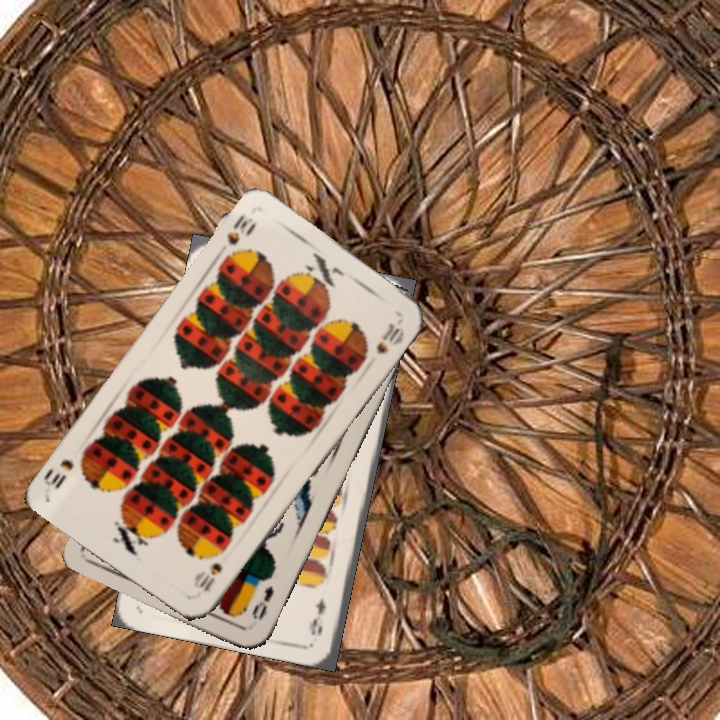E9: (307, 593, 329, 638)
EO: (248, 581, 276, 623)
S10: (222, 210, 260, 248), (195, 558, 225, 595)
